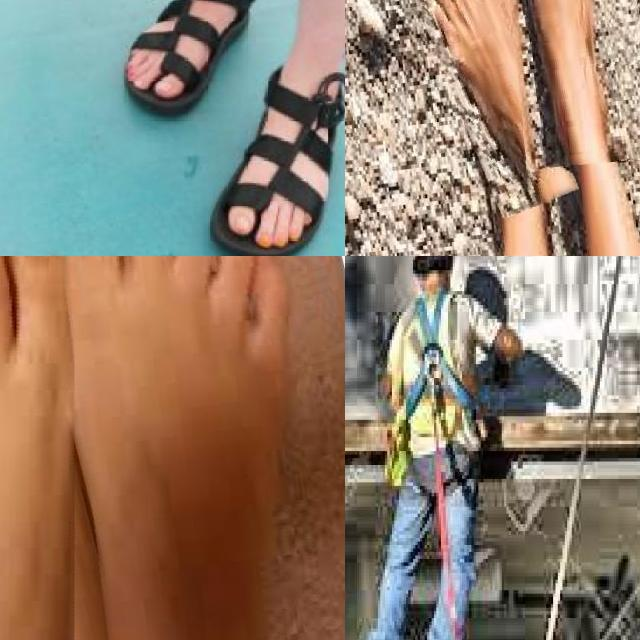Barefoots: (44, 256, 334, 640), (397, 0, 560, 224), (0, 256, 76, 640), (481, 0, 640, 171)
Harness: (388, 293, 478, 475)
Sandals: (209, 55, 345, 256), (124, 0, 256, 117)
